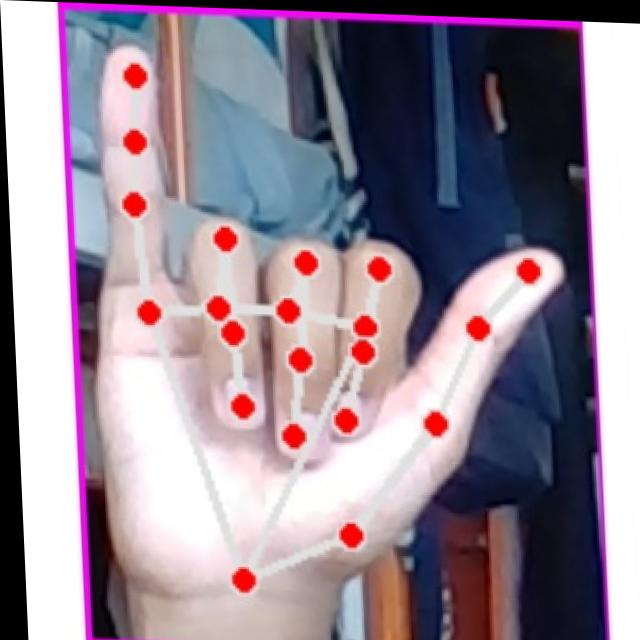Y: (86, 28, 583, 616)
